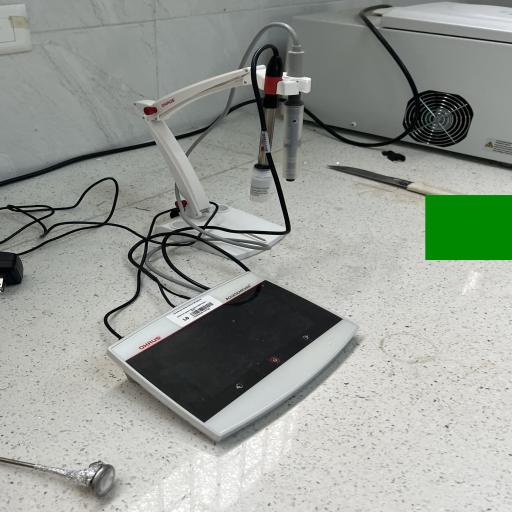Phmetro_Ohaus: (80, 265, 396, 451)
